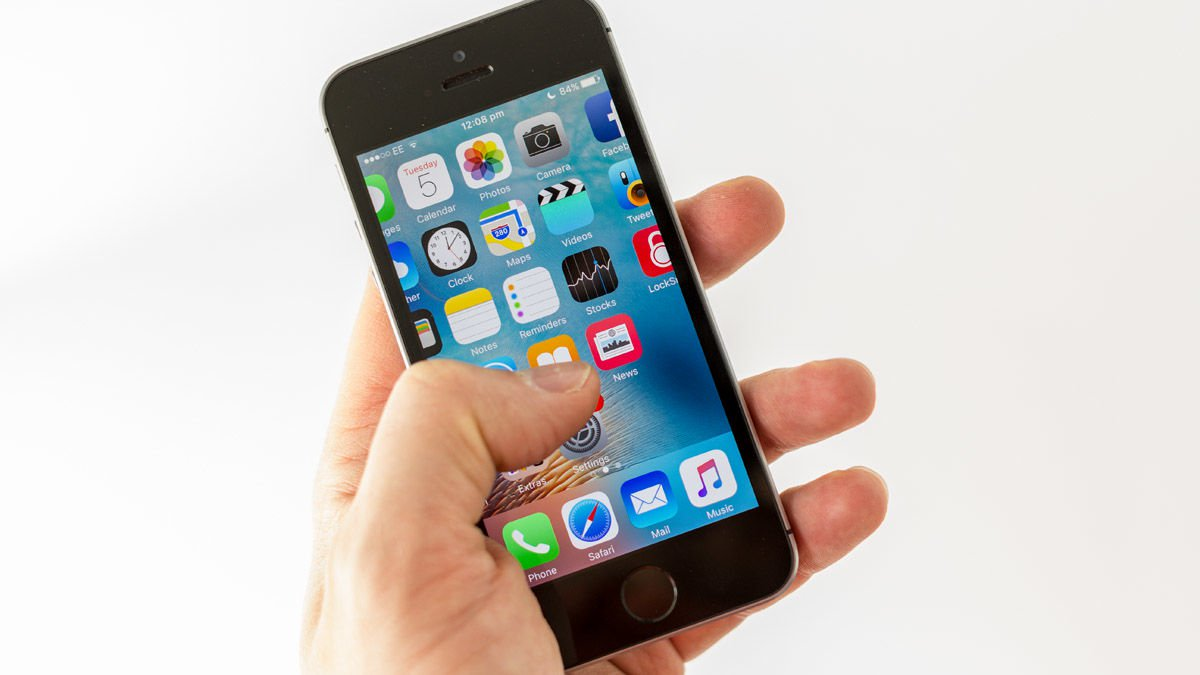smartphone: (321, 1, 800, 671)
